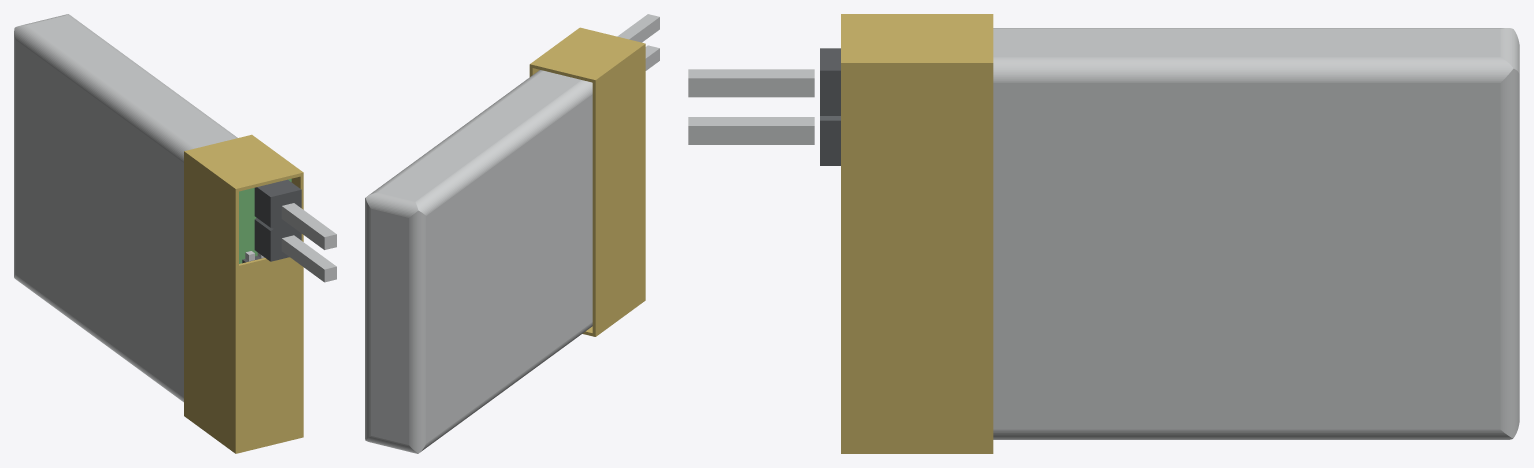
The model's file is battery.glb.
3 renders of one model, left to right at view 1: azimuth 30°, elevation 25°; view 2: azimuth 150°, elevation 25°; view 3: azimuth 270°, elevation 25°, orthographic. The views are drawn at different scales.
Parts seen in each view (by area): view 1: Mesh_Mesh_head_geo.001_lambert2SG.001; view 2: Mesh_Mesh_head_geo.001_lambert2SG.001; view 3: Mesh_Mesh_head_geo.001_lambert2SG.001.
Boxes of the visible parts, x1,y1,x2,y2 form: Mesh_Mesh_head_geo.001_lambert2SG.001: (14,14,336,453); Mesh_Mesh_head_geo.001_lambert2SG.001: (365,14,659,453); Mesh_Mesh_head_geo.001_lambert2SG.001: (688,14,1519,453).
Bounding box in the file's own units: 0.0055 × 0.0205 × 0.0395.
